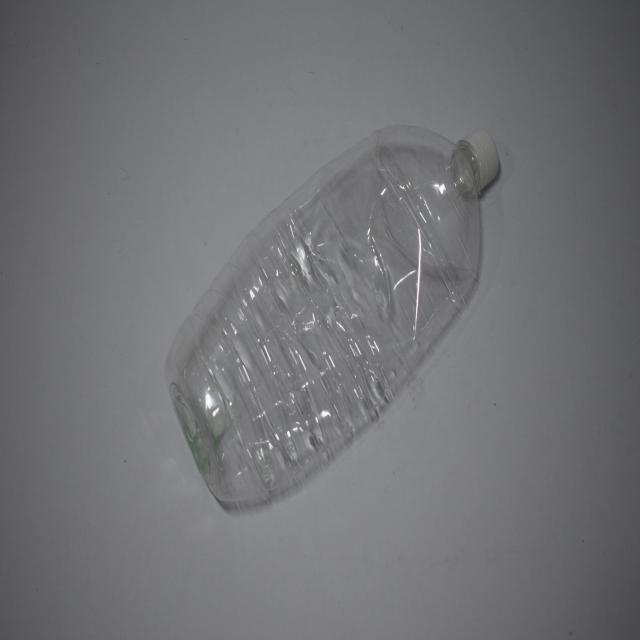bottle: (164, 101, 539, 516)
